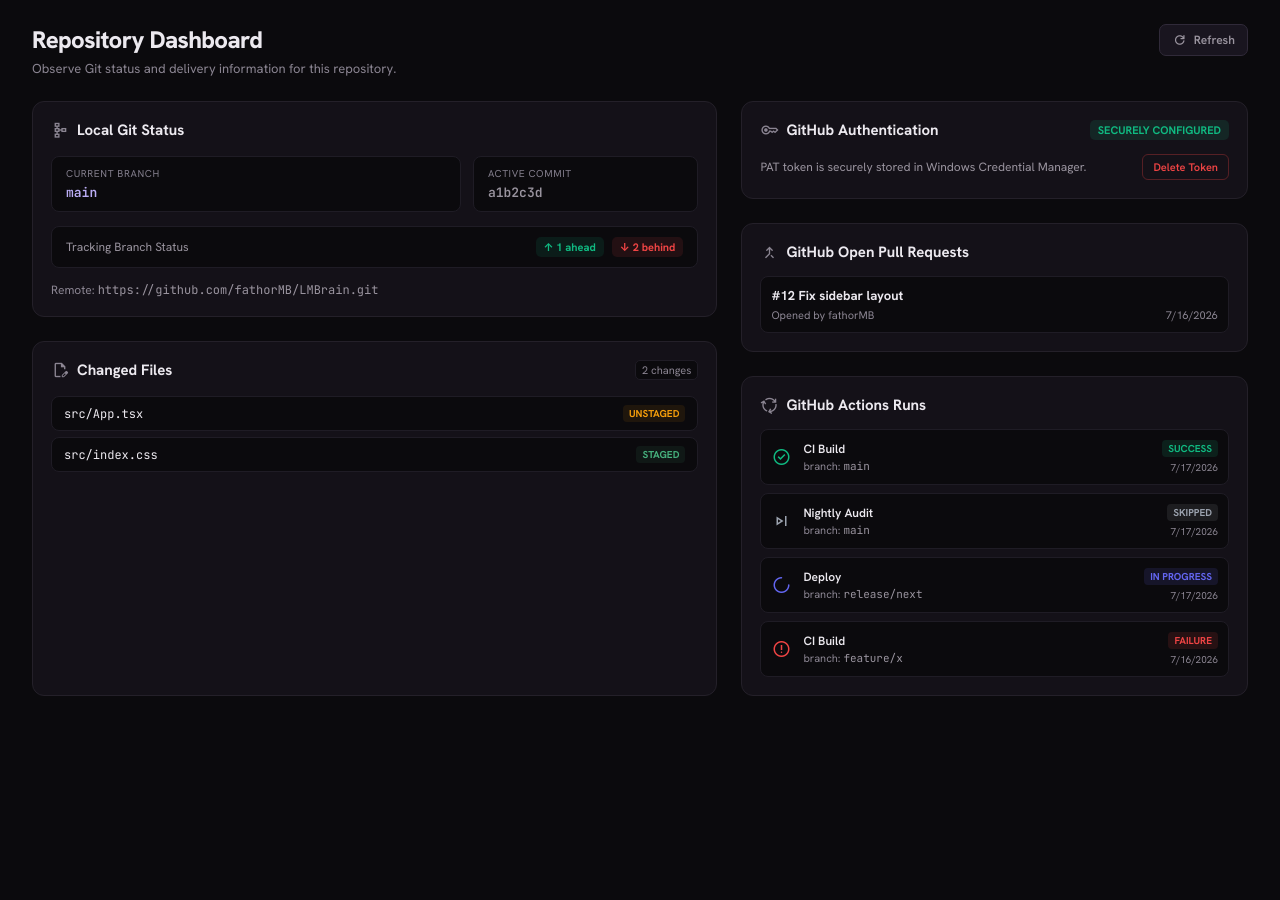
Test: RepositoryView › renders missing run metadata as placeholders without breaking
Click the button with aria-label "View details for run Nightly Audit, Skipped, branch main" at (838, 513), box [760, 493, 1229, 549]
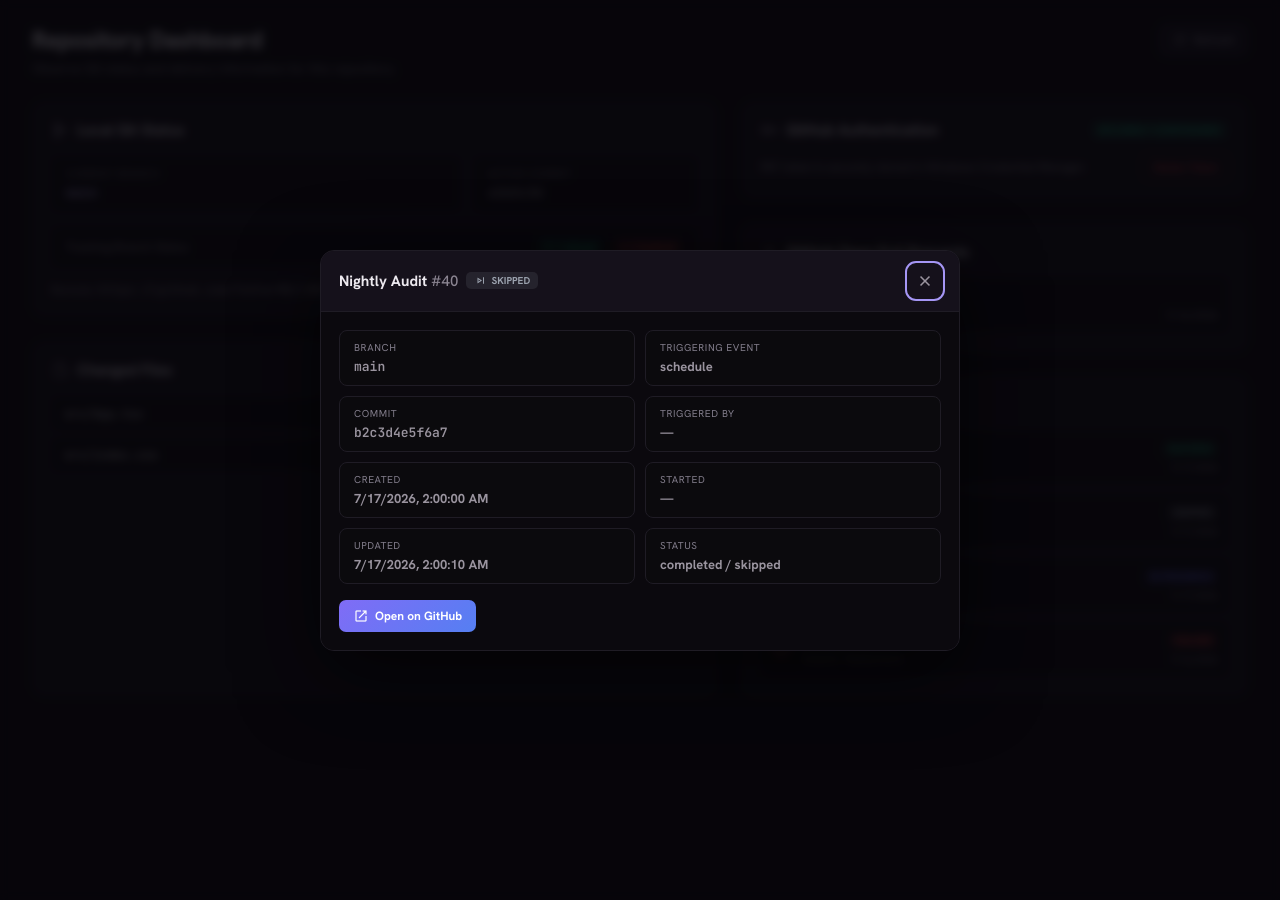
Expected: the dialog "Nightly Audit" is shown, [320, 250, 960, 650]
